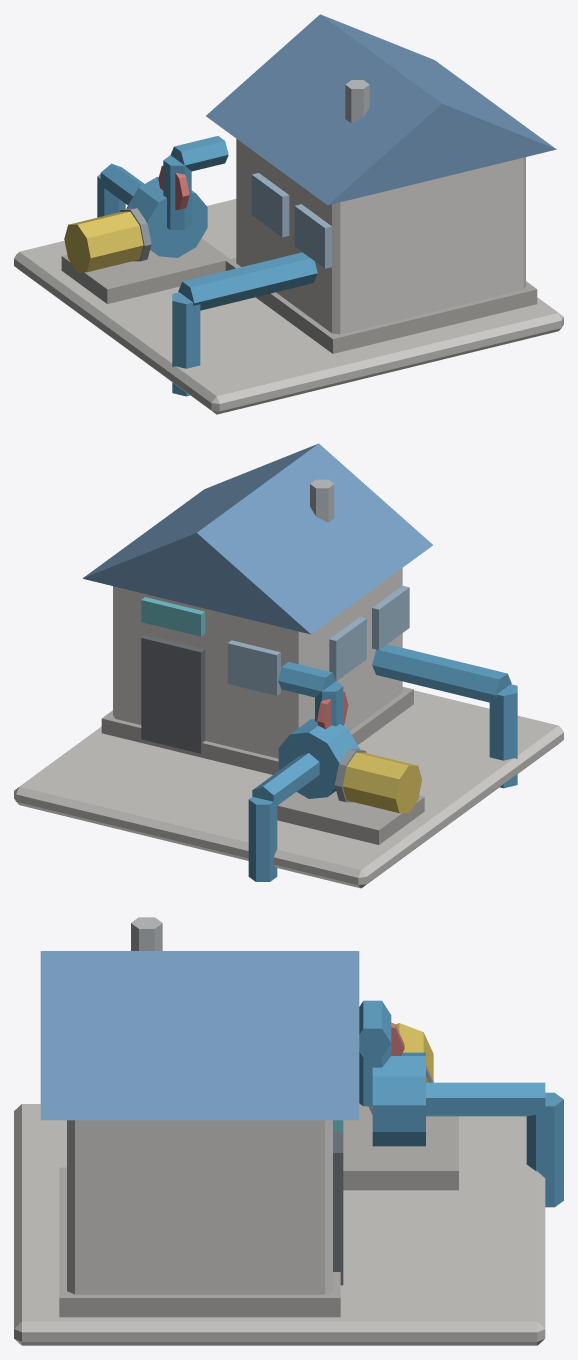
Rendered from agua__bomba_agua.glb.
The picture shows the model from 3 angles, top to bottom: view 1: azimuth 30°, elevation 25°; view 2: azimuth 150°, elevation 25°; view 3: azimuth 270°, elevation 25°; orthographic projection. The views are drawn at different scales.
Visible parts, largest first — view 1: agua__bomba_agua; view 2: agua__bomba_agua; view 3: agua__bomba_agua.
Part boxes in pixels (x1,y1,x2,y2): agua__bomba_agua: (14, 14, 563, 414); agua__bomba_agua: (14, 443, 563, 888); agua__bomba_agua: (14, 917, 563, 1345).
Size of the model in its own units: 2 by 1.4 by 2.07.
